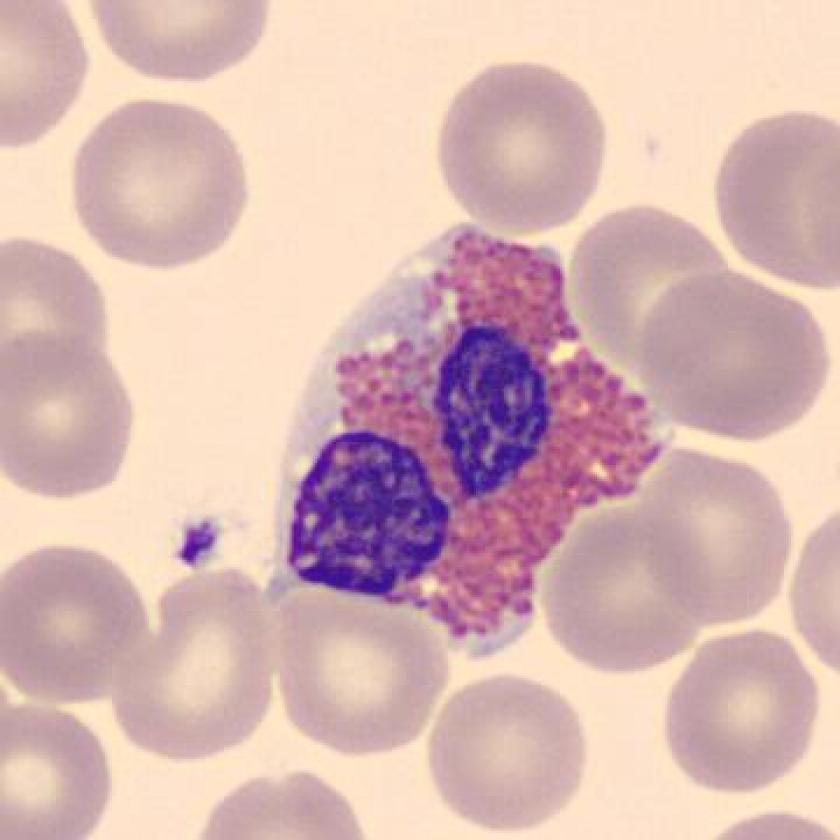eosinophil: (251, 216, 680, 665)
